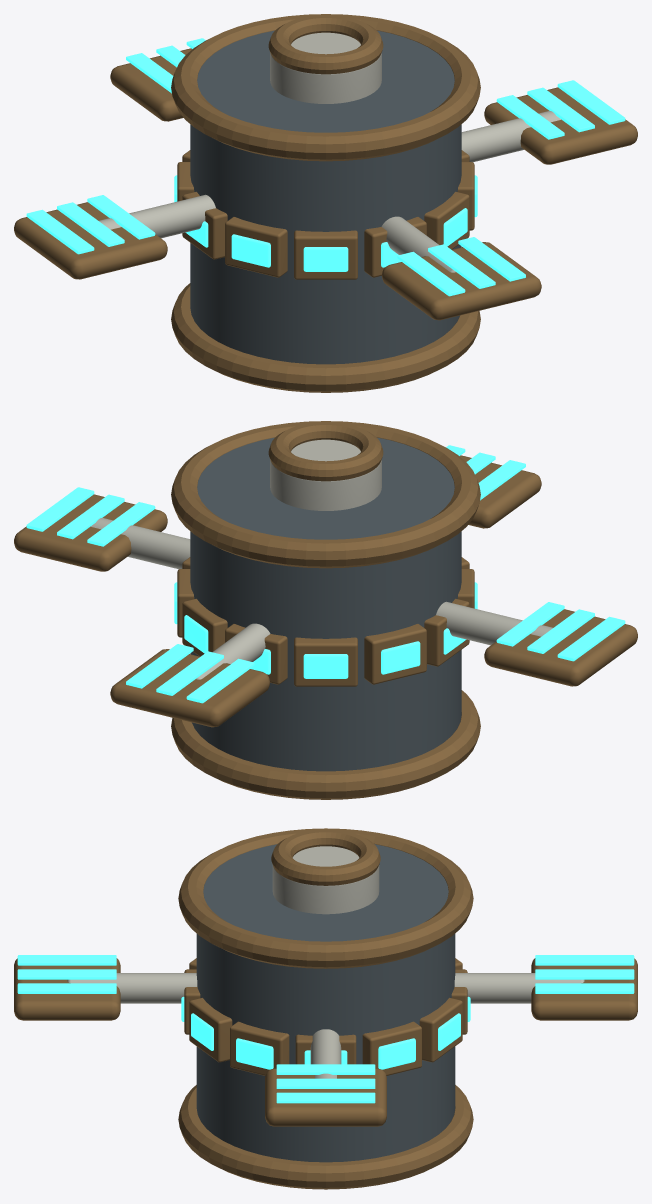
File: noeud.glb
3 renders of one model, top to bottom at view 1: azimuth 30°, elevation 25°; view 2: azimuth 150°, elevation 25°; view 3: azimuth 270°, elevation 25°, orthographic. The views are drawn at different scales.
Visible parts, largest first — view 1: Moyeu orbital, Collier orbital, Collier orbital.001, Panneau de relais.003, Panneau de relais.002, Connecteur axial, Panneau de relais, Sas axial, Panneau de relais.001, Bras de relais.003, Bras de relais.001, Encadrement.010 (+19 smaller); view 2: Moyeu orbital, Collier orbital, Collier orbital.001, Panneau de relais.001, Panneau de relais.002, Connecteur axial, Panneau de relais, Sas axial, Panneau de relais.003, Bras de relais.003, Bras de relais.001, Encadrement.008 (+19 smaller); view 3: Moyeu orbital, Collier orbital, Collier orbital.001, Panneau de relais, Connecteur axial, Sas axial, Panneau de relais.001, Panneau de relais.003, Bras de relais.002, Bras de relais, Encadrement.002, Encadrement.004 (+17 smaller).
Boxes of the visible parts, x1,y1,x2,y2 form: Moyeu orbital: (190, 30, 461, 364); Collier orbital: (171, 14, 480, 161); Collier orbital.001: (171, 283, 480, 392); Panneau de relais.003: (382, 242, 541, 320); Panneau de relais.002: (14, 202, 167, 279); Connecteur axial: (270, 32, 381, 103); Panneau de relais: (484, 87, 637, 164); Sas axial: (268, 15, 383, 74); Panneau de relais.001: (110, 48, 192, 121); Bras de relais.003: (99, 194, 215, 238); Bras de relais.001: (461, 110, 560, 162); Encadrement.010: (225, 217, 287, 277); Moyeu orbital: (190, 437, 461, 771); Collier orbital: (171, 421, 480, 568); Collier orbital.001: (171, 690, 480, 799); Panneau de relais.001: (110, 649, 269, 727); Panneau de relais.002: (484, 609, 637, 686); Connecteur axial: (270, 439, 381, 510); Panneau de relais: (14, 494, 167, 571); Sas axial: (268, 422, 383, 481); Panneau de relais.003: (459, 455, 541, 528); Bras de relais.003: (436, 601, 552, 645); Bras de relais.001: (91, 517, 190, 569); Encadrement.008: (364, 624, 426, 684); Moyeu orbital: (196, 844, 455, 1162); Collier orbital: (178, 828, 473, 968); Collier orbital.001: (178, 1085, 473, 1189); Panneau de relais: (265, 1068, 386, 1126); Connecteur axial: (272, 846, 379, 914); Sas axial: (271, 829, 380, 885); Panneau de relais.001: (531, 958, 637, 1020); Panneau de relais.003: (14, 958, 120, 1020); Bras de relais.002: (454, 973, 584, 1003); Bras de relais: (67, 973, 197, 1003); Encadrement.002: (230, 1021, 289, 1075); Encadrement.004: (362, 1021, 421, 1075).
Size of the model in its own units: 4.1 by 2.04 by 4.1.
